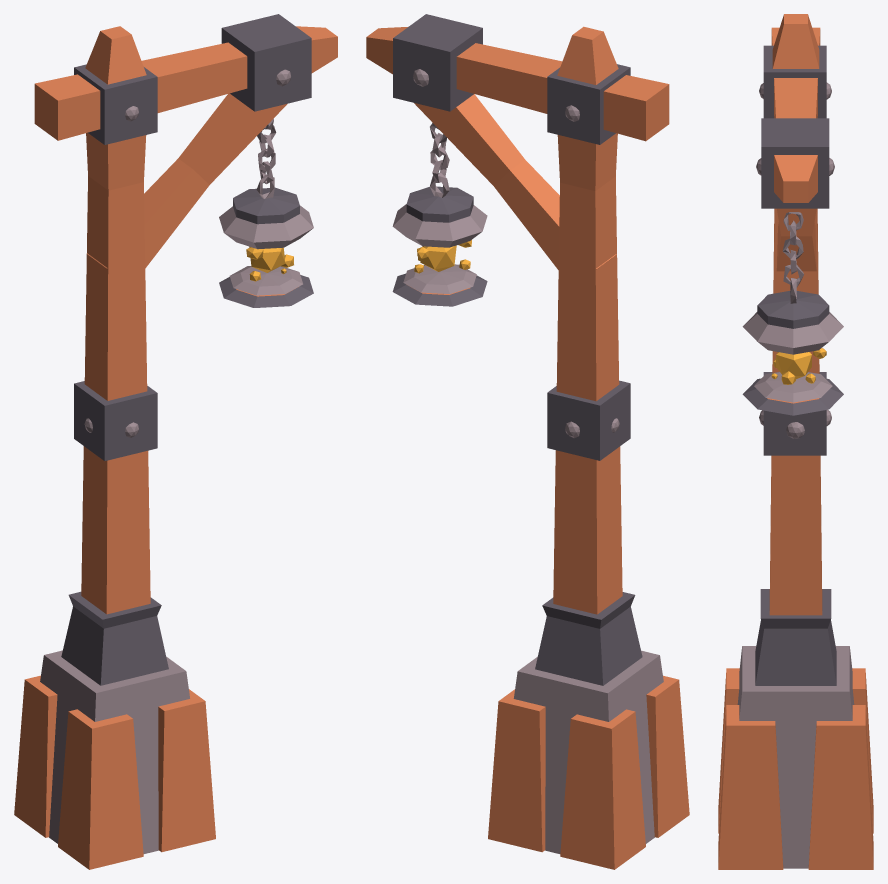
The model's file is LightBench.fbx.
3 renders of one model, left to right at view 1: azimuth 30°, elevation 25°; view 2: azimuth 150°, elevation 25°; view 3: azimuth 270°, elevation 25°, orthographic. The views are drawn at different scales.
Parts seen in each view (by area): view 1: LightBench; view 2: LightBench; view 3: LightBench.
Part boxes in pixels (x1,y1,x2,y2): LightBench: (14,14,337,869); LightBench: (366,14,689,869); LightBench: (718,14,873,869).
Size of the model in its own units: 40.57 by 88.97 by 237.
